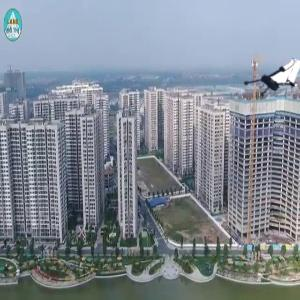drone: (239, 51, 299, 111)
